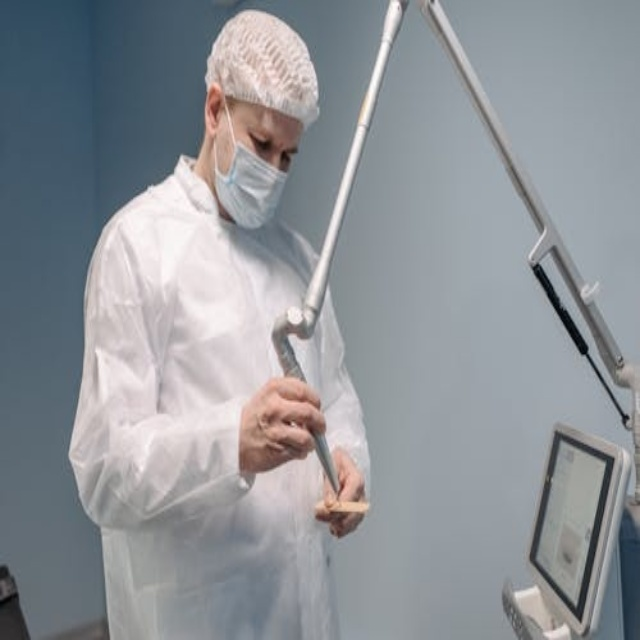Mascara: (212, 96, 290, 230)
Sin_gafas: (233, 111, 305, 167)
Sin_guantes: (242, 368, 323, 473), (313, 454, 367, 540)
